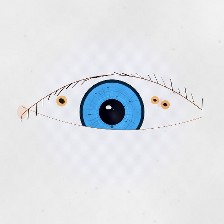foreign_body_visible: (46, 88, 78, 114)
